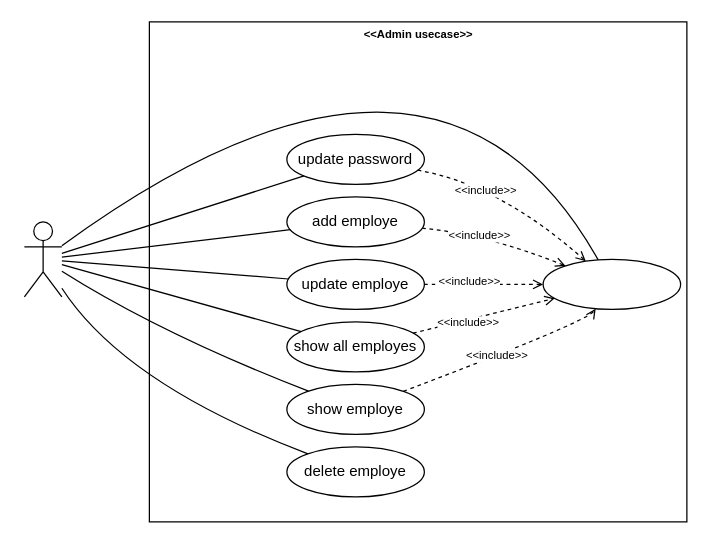
Some shapes in this 709 by 544 pixel diagram are drawn without their labels. The shapes that lost their labels are listed below. From the top down, each one's centre as x and y in pixels, then its label:
the point at 42,259: Admin
the point at 611,283: Authentification
